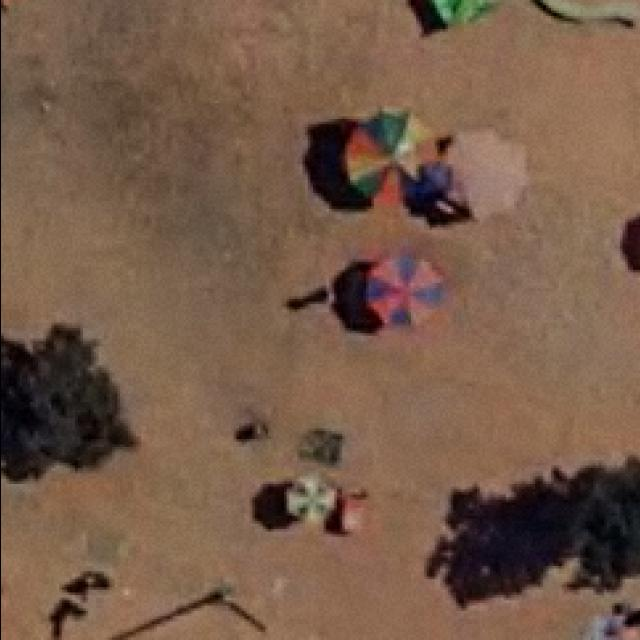vendedor_ambulante: (338, 105, 441, 218), (440, 122, 528, 220), (360, 251, 446, 332), (279, 469, 337, 527)
